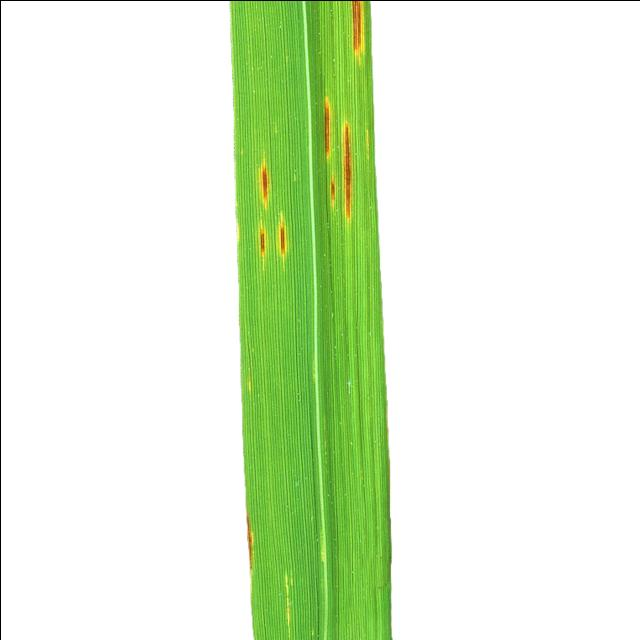Narrow brown: (137, 0, 446, 640)
